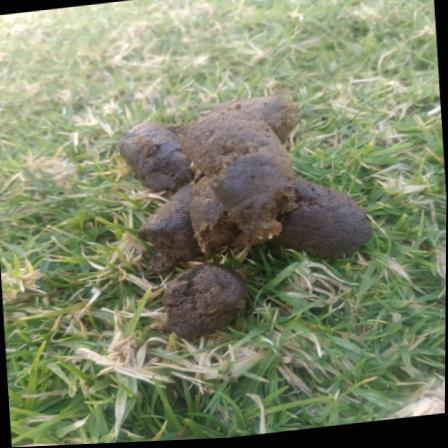dog-poop: (96, 48, 403, 354)
